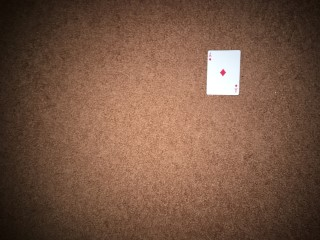AceOfDiamonds: (207, 50, 241, 95)
